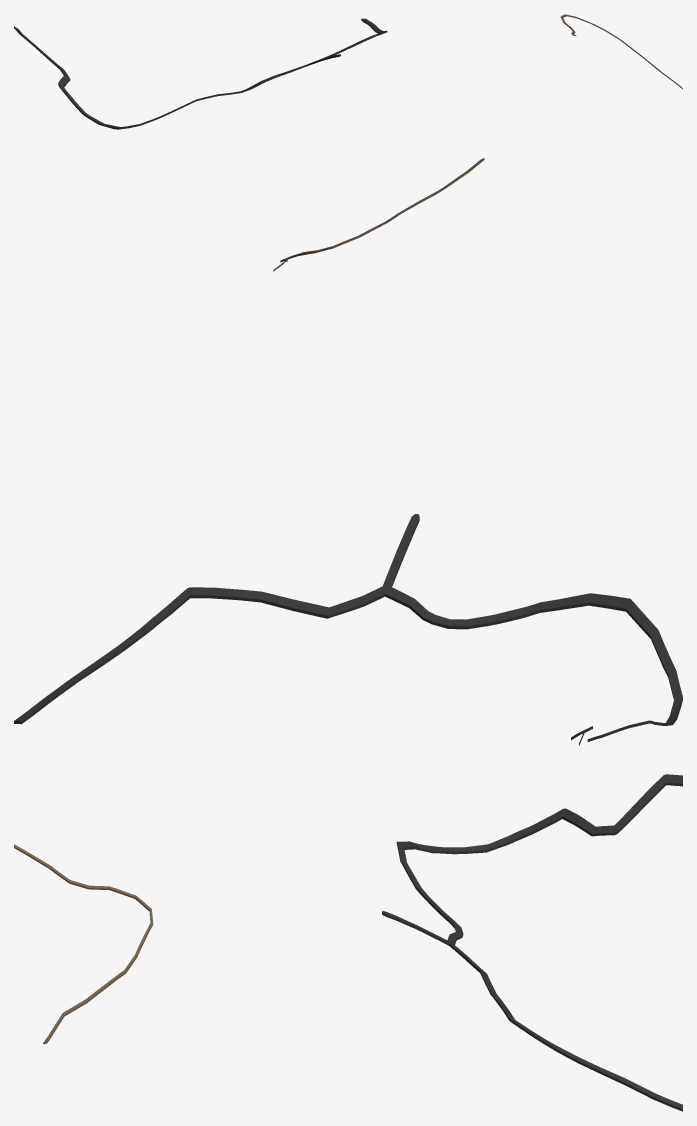
3 views of the same model, one above another, from view 1: azimuth 30°, elevation 25°; view 2: azimuth 150°, elevation 25°; view 3: azimuth 270°, elevation 25° (orthographic). The views are drawn at different scales.
Bounding box in the file's own units: 289 × 115 × 292.
